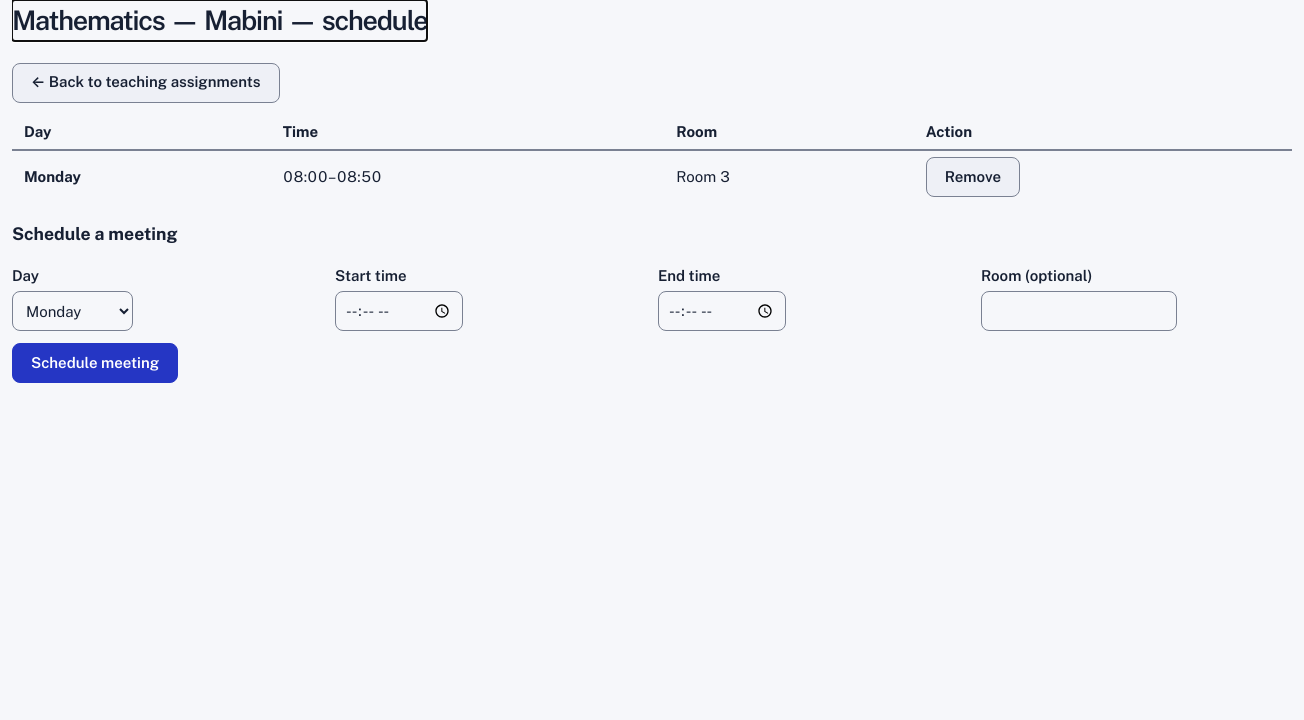
Test: ScheduleMeetingsScreen › removes a meeting
Expected: the column heading "Monday" is shown, [12,150,271,203]
Click the button with aria-label "Remove the Monday 08:00 meeting" at (973, 177), box [926,157,1020,197]
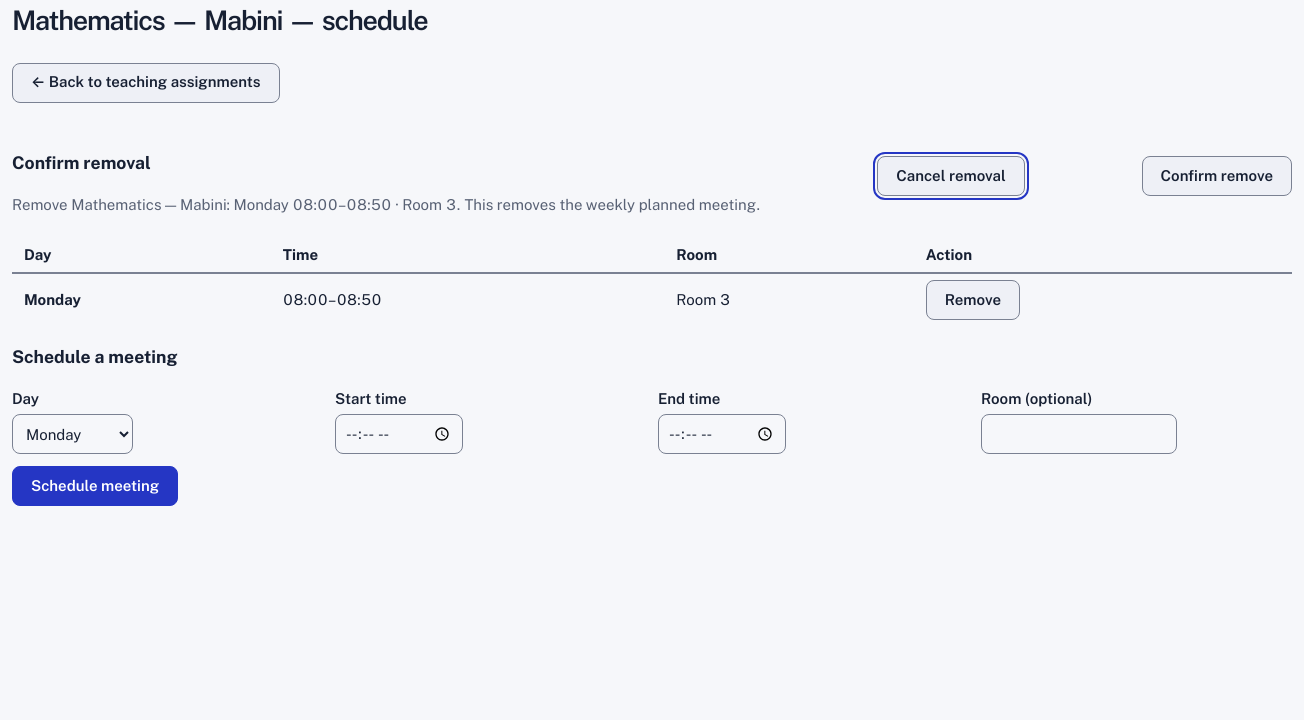
Click the button "Confirm remove" at (1217, 176), box [1142,156,1292,196]
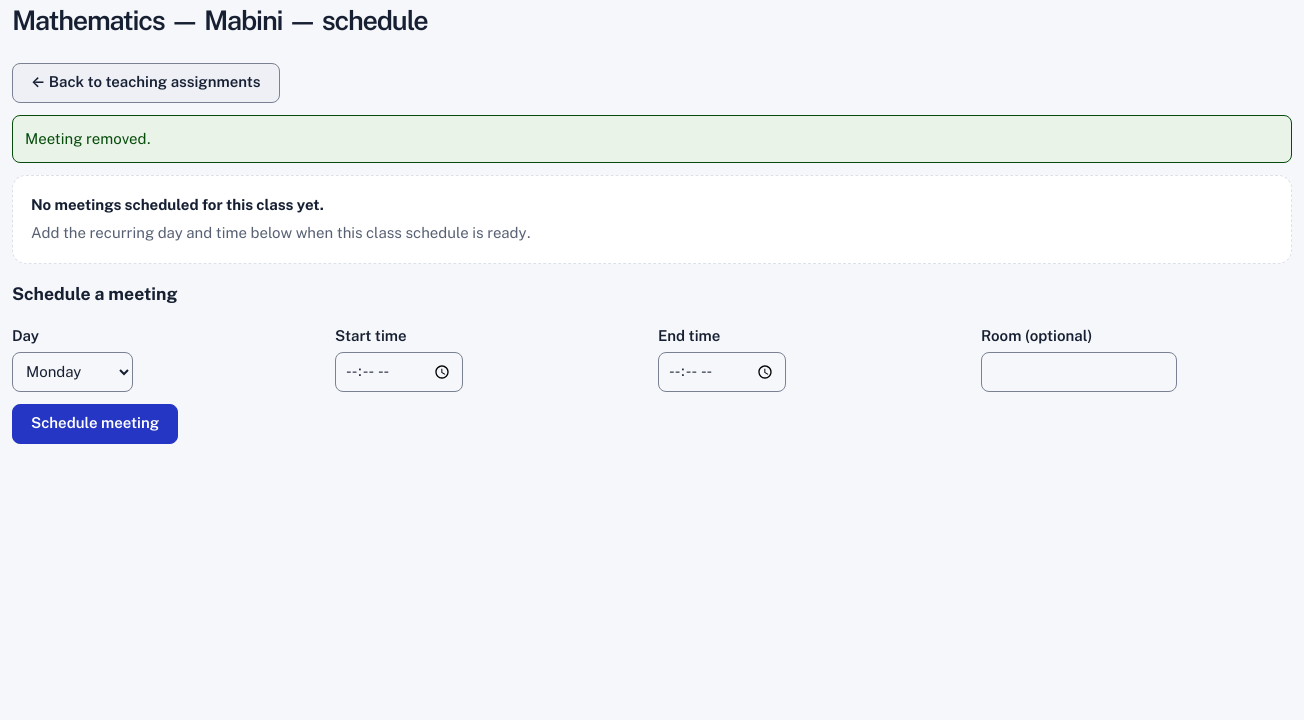
Expected: the heading "No meetings scheduled for this class yet." is shown, [31,194,324,217]
